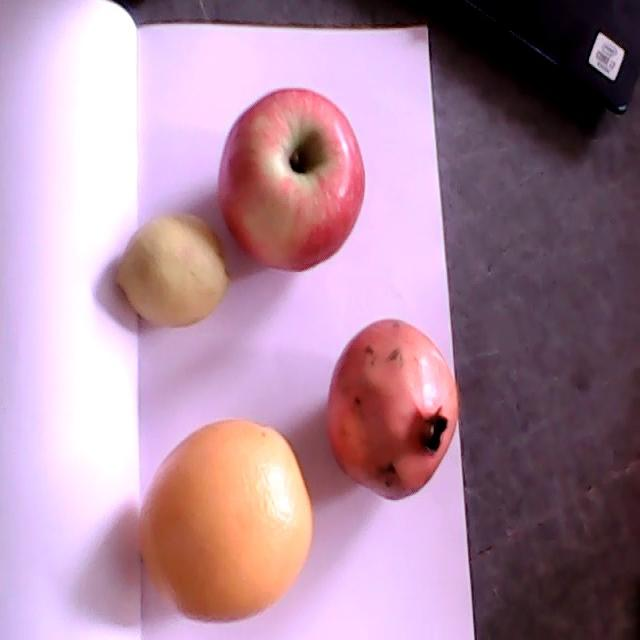apple: (218, 91, 363, 270)
lemon: (114, 213, 229, 327)
orange: (133, 417, 312, 604)
pomegranate: (325, 318, 460, 501)
